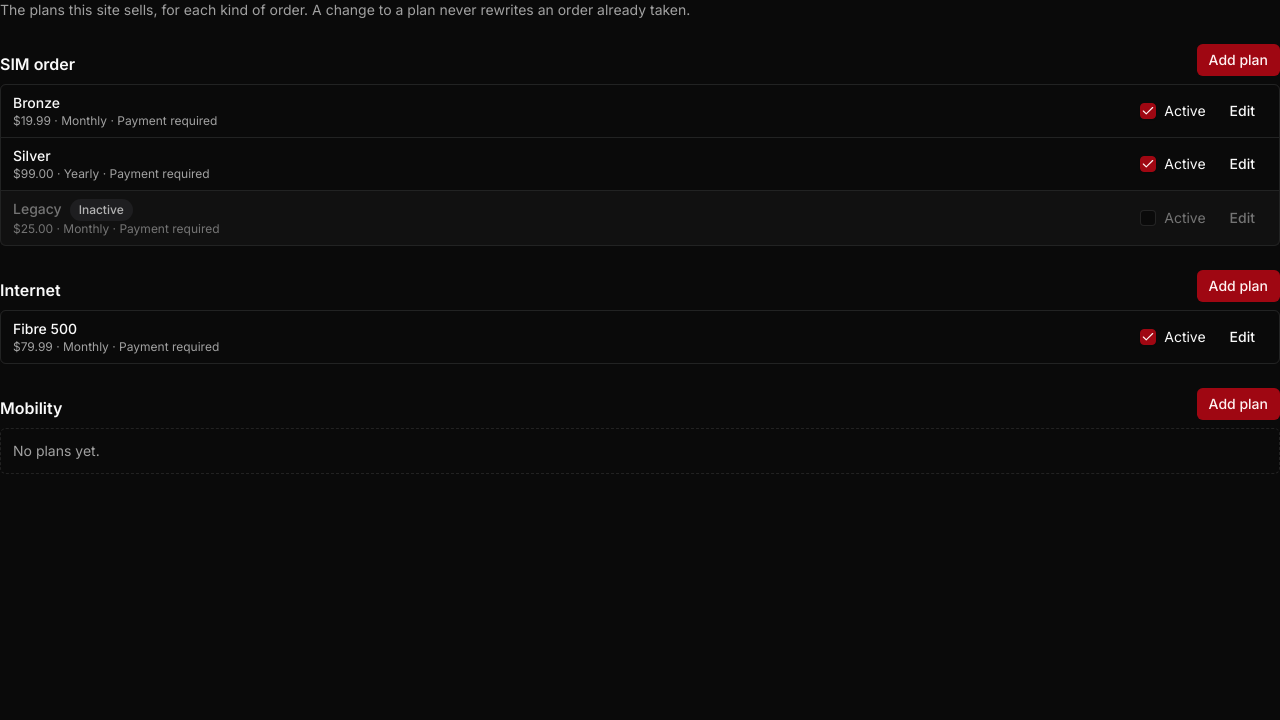
Test: PlansSettings writes › explains plan_name_taken when adding
expect the list named "SIM order plans" is shown: met, box [0,84,1279,246]
Click the button with aria-label "Add SIM order plan" at (1238, 60), box [1197,44,1279,76]
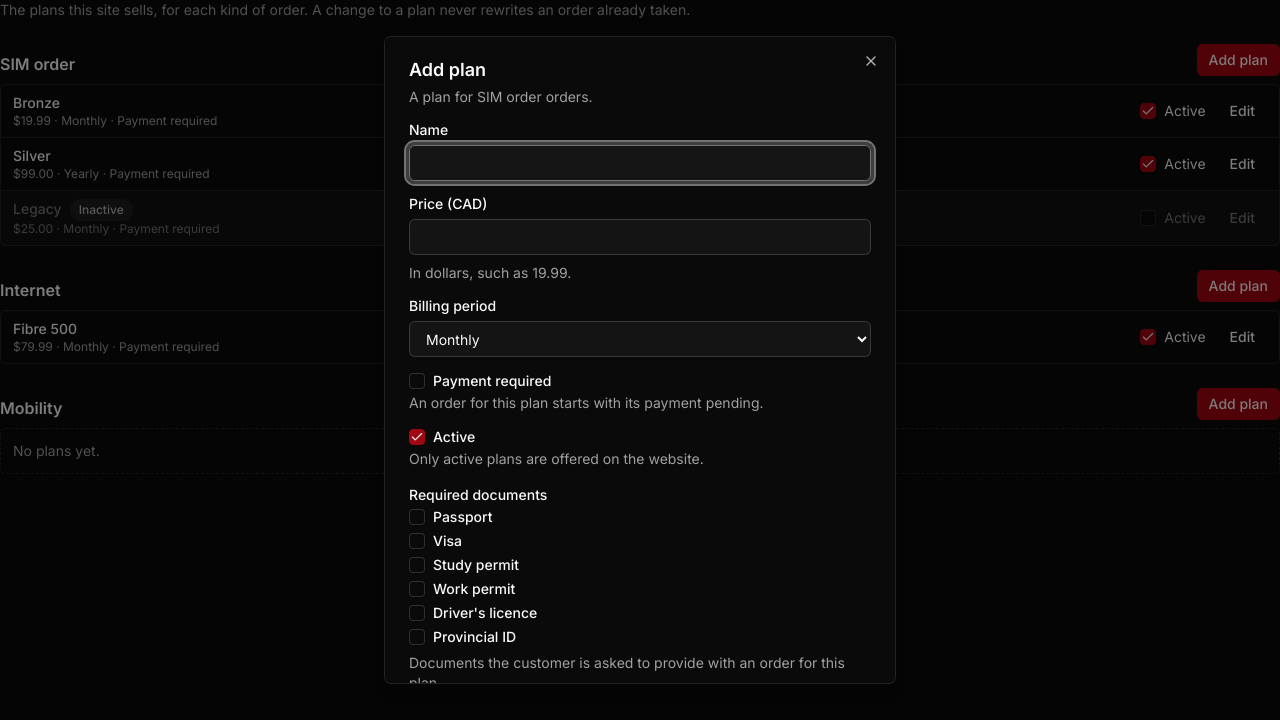
Type "Bronze" into the field labelled "Name" at (640, 163), box [409,145,871,181]
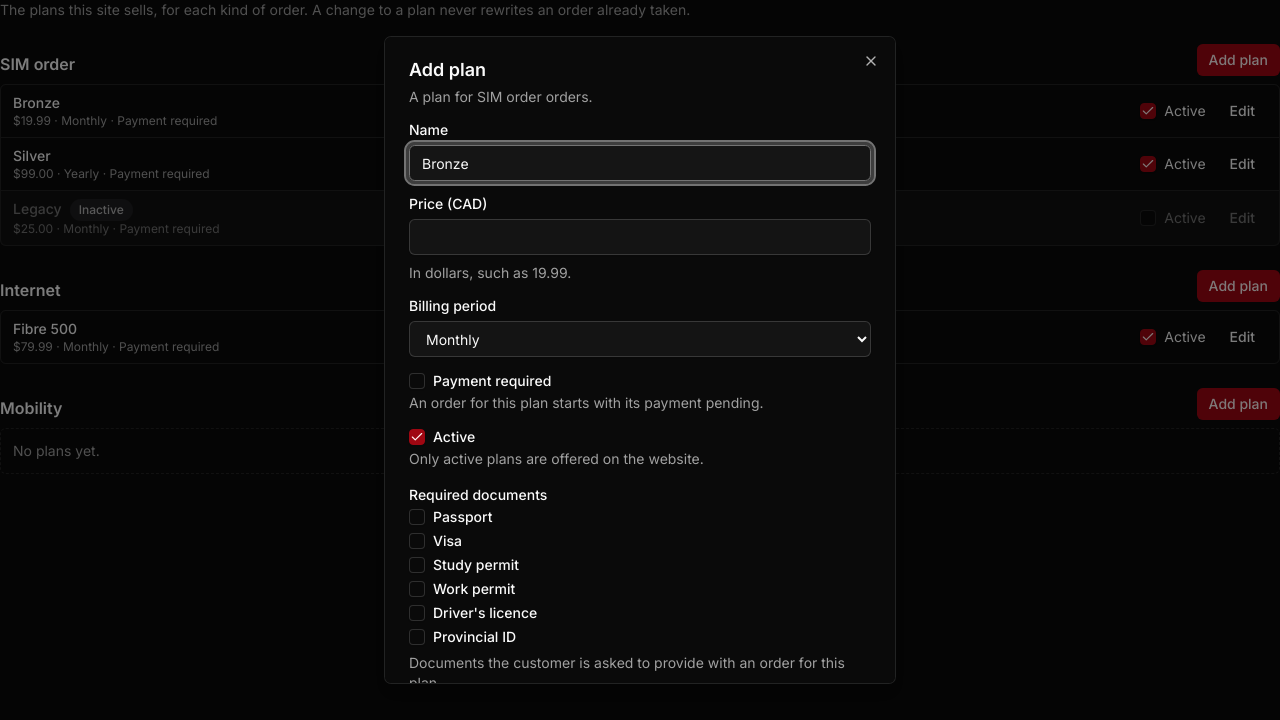
Type "10" into the field labelled "Price (CAD)" at (640, 237), box [409,219,871,255]
(page scrolled)
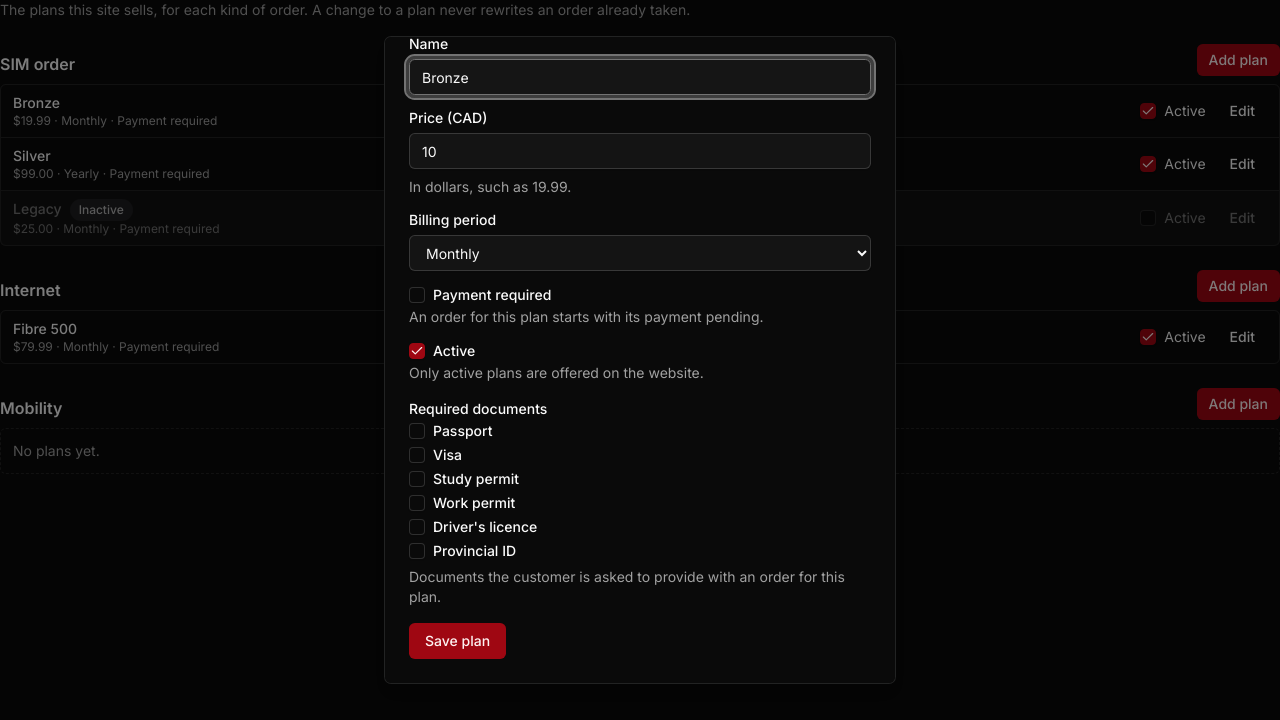
Click the button "Save plan" at (458, 641), box [409,623,506,659]
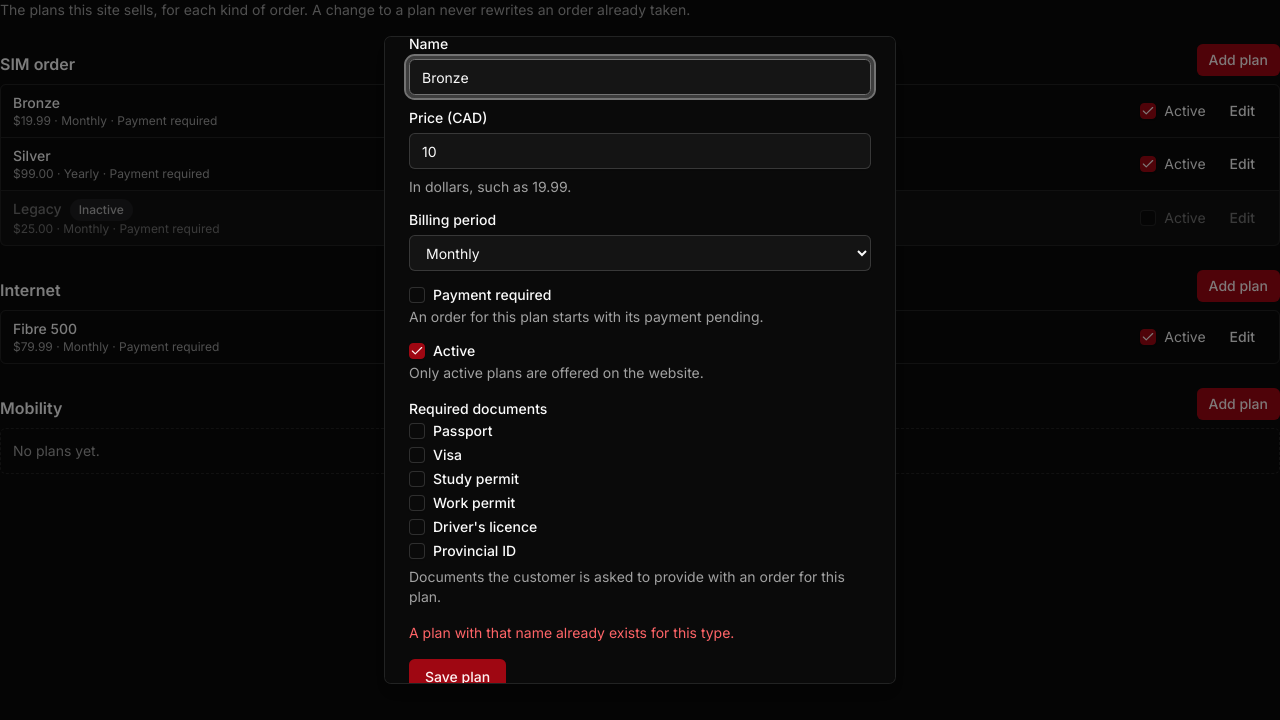
expect the dialog is shown: met, box [384,36,896,684]
expect the message reads "A plan with that name already exists for this type.": met, box [409,624,734,641]
